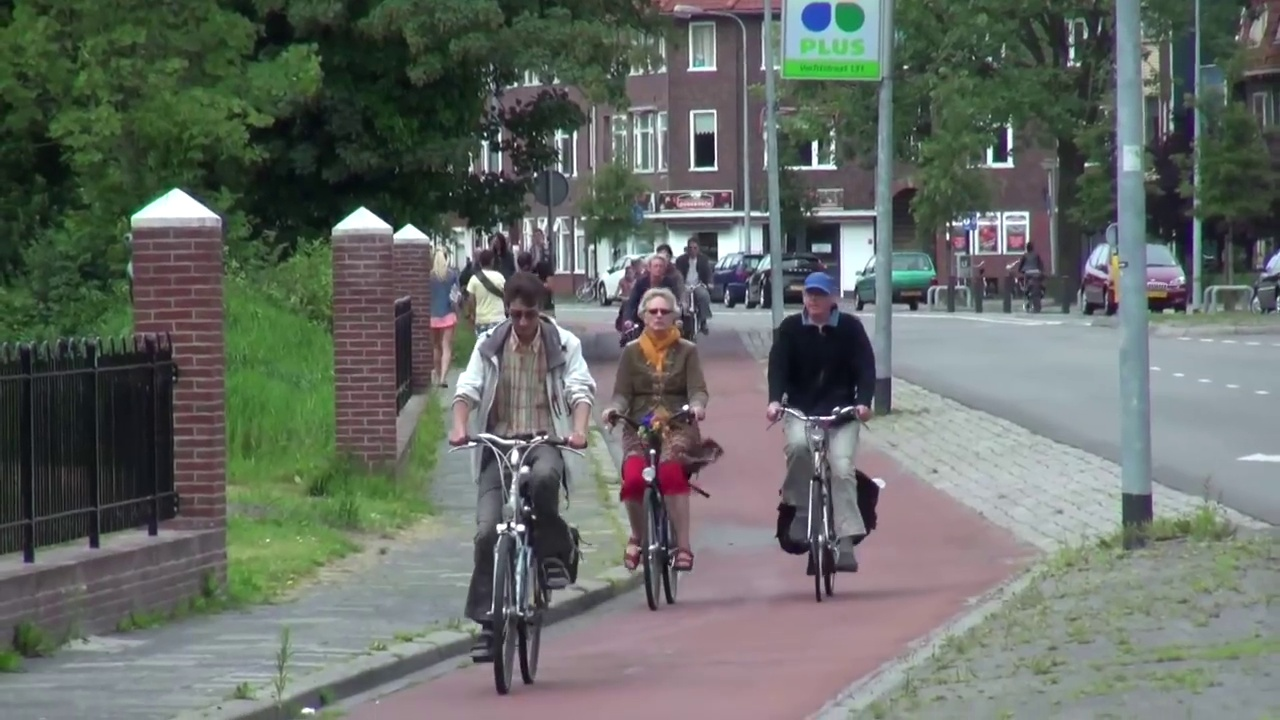cyclist_front: (440, 267, 601, 697), (603, 289, 723, 623), (769, 270, 887, 608)
